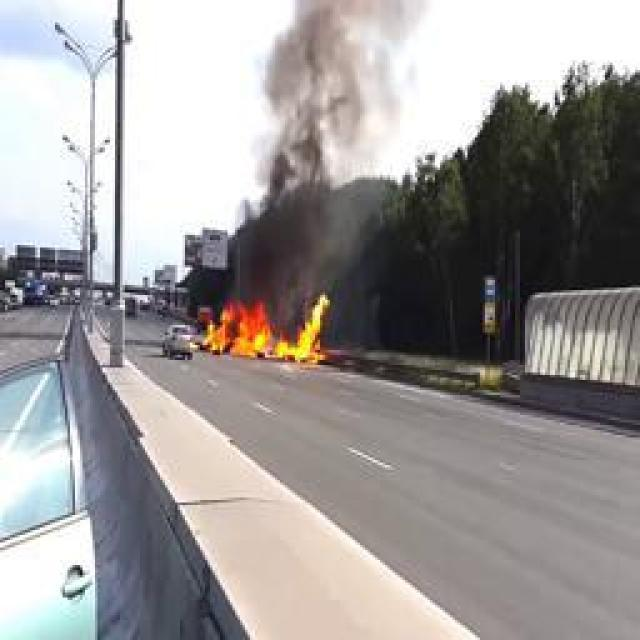Fire: (200, 295, 330, 363)
